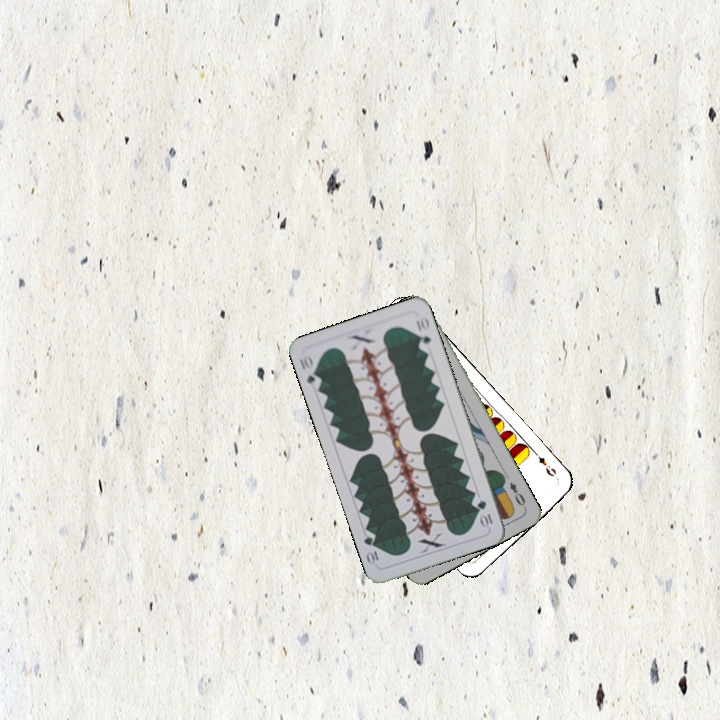E9: (530, 448, 559, 479)
EO: (506, 478, 529, 511)
G10: (295, 351, 324, 391), (473, 496, 495, 530)
